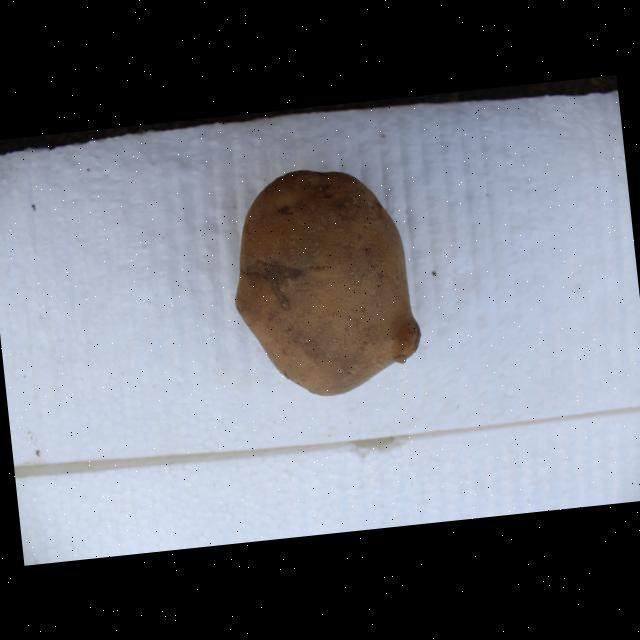Diseased-fungal potato: (218, 157, 428, 406)
